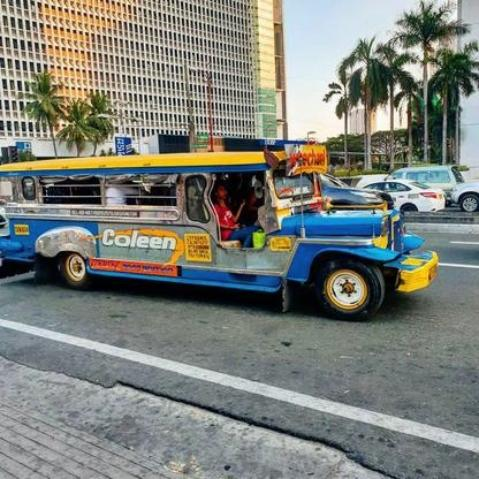car: (362, 170, 450, 215)
jeepney: (0, 134, 449, 332)
